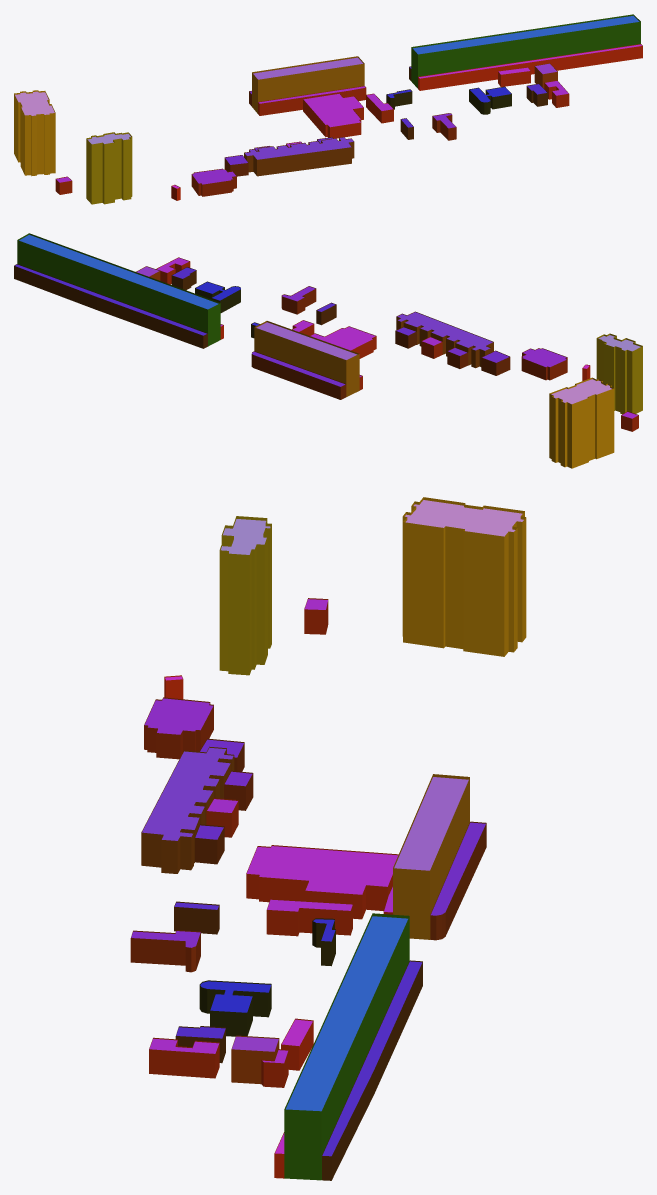
Rendered from edificios_T33.glb.
3 renders of one model, top to bottom at view 1: azimuth 30°, elevation 25°; view 2: azimuth 150°, elevation 25°; view 3: azimuth 270°, elevation 25°, orthographic. The views are drawn at different scales.
Visible parts, largest first — view 1: Edificios_T33; view 2: Edificios_T33; view 3: Edificios_T33.
Part boxes in pixels (x1,y1,x2,y2): Edificios_T33: (14, 14, 642, 204); Edificios_T33: (14, 233, 642, 468); Edificios_T33: (130, 497, 526, 1180).
Size of the model in its own units: 429 by 42.54 by 126.
